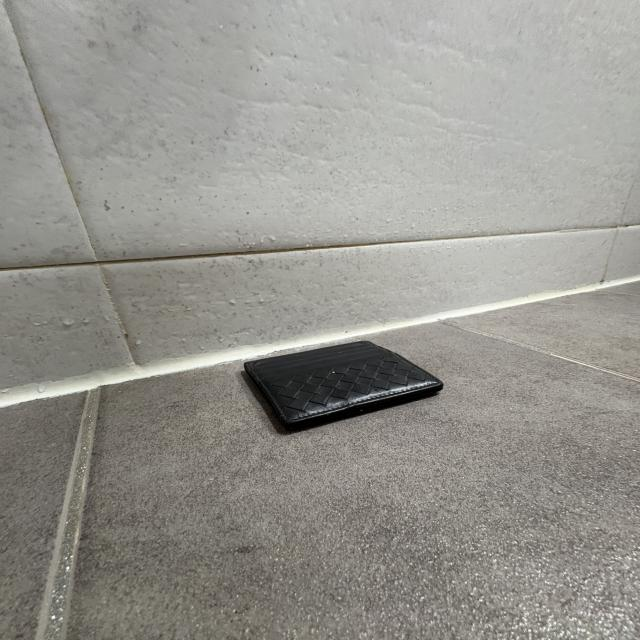wallet: (241, 340, 445, 437)
